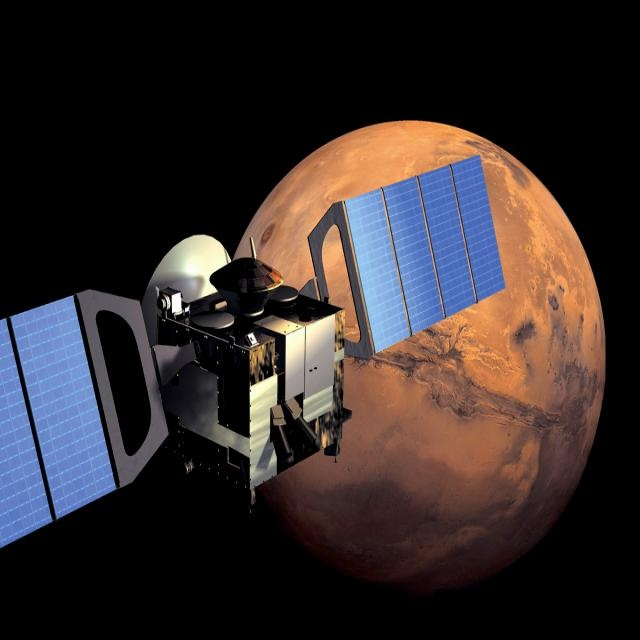satellite: (0, 153, 534, 560)
